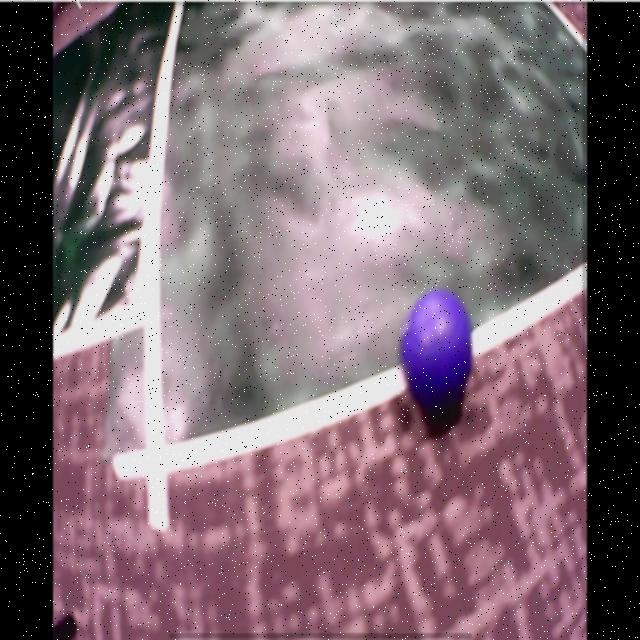ball: (403, 292, 473, 400)
